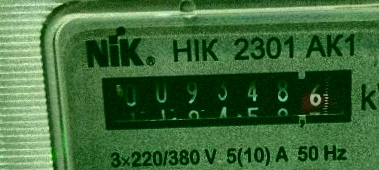0: (152, 79, 168, 103), (122, 81, 136, 107)
3: (213, 76, 228, 103)
4: (243, 76, 258, 103)
6: (306, 80, 323, 108)
8: (273, 75, 289, 104)
9: (182, 78, 198, 105)
screen: (91, 61, 362, 139)
